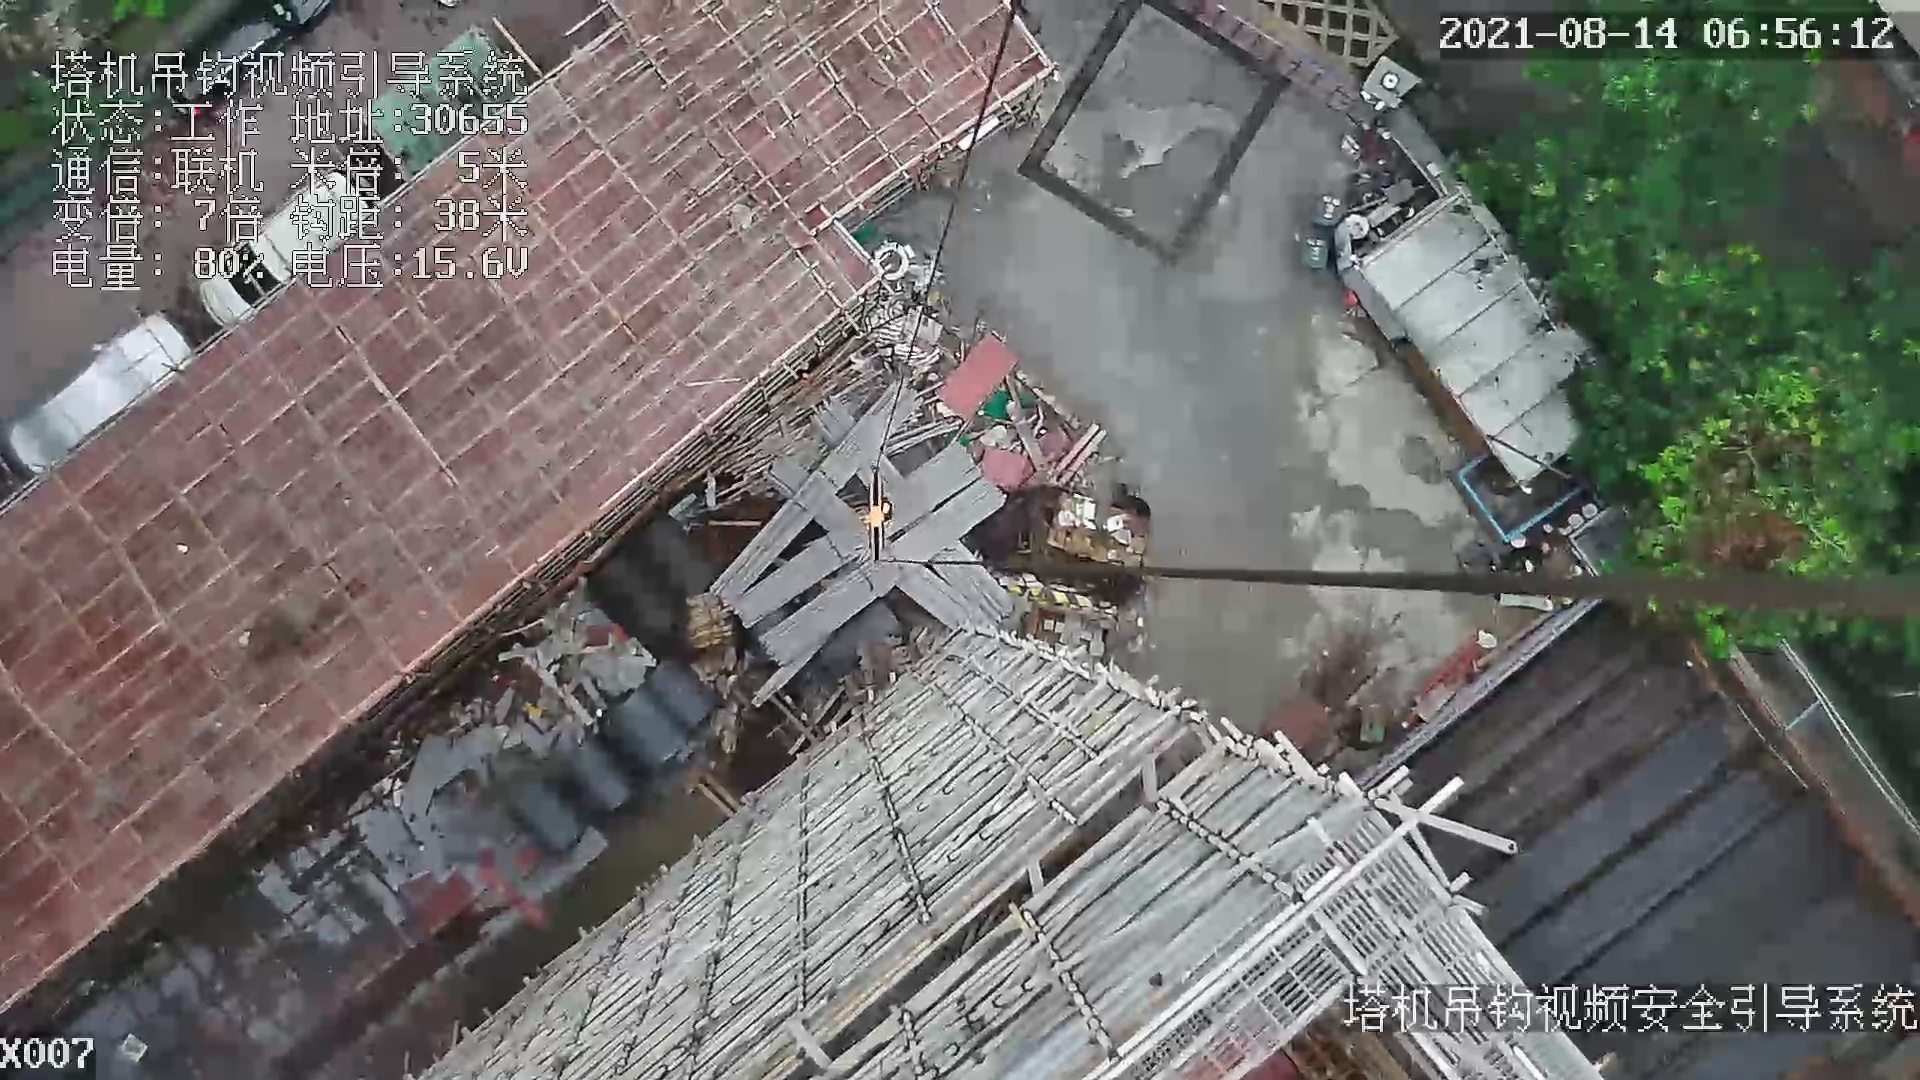hook: (862, 459, 887, 555)
rebar: (758, 477, 1006, 667), (711, 378, 919, 603), (732, 444, 981, 625), (930, 539, 1007, 618), (897, 564, 975, 629)
wood: (686, 607, 733, 647)
